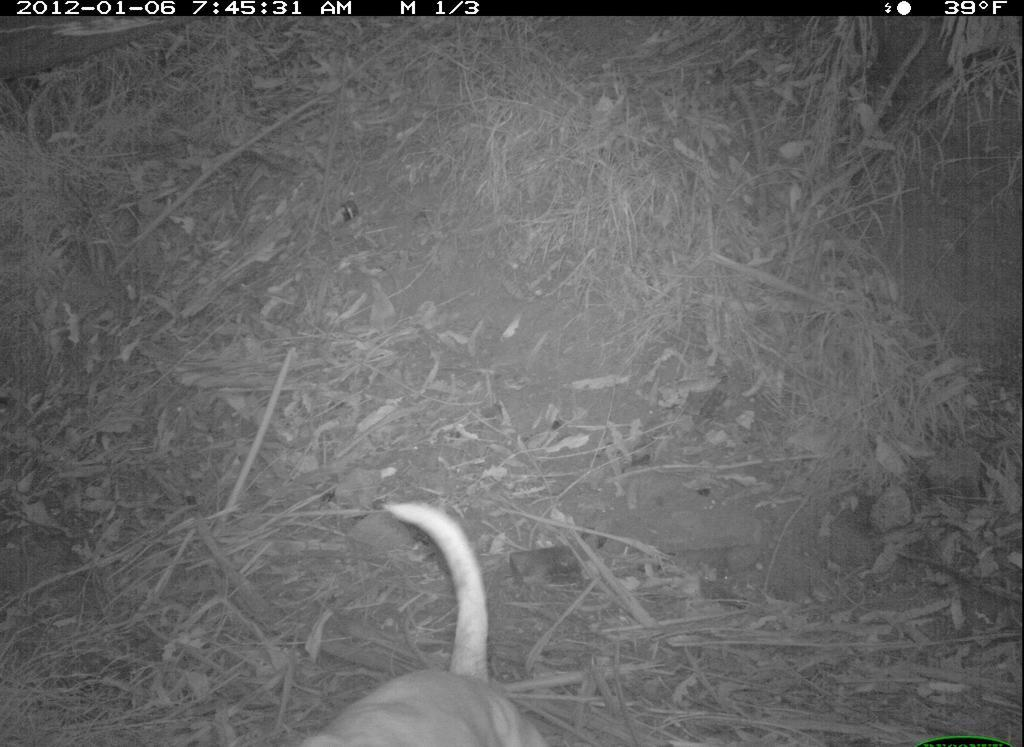dog: (299, 504, 556, 747)
